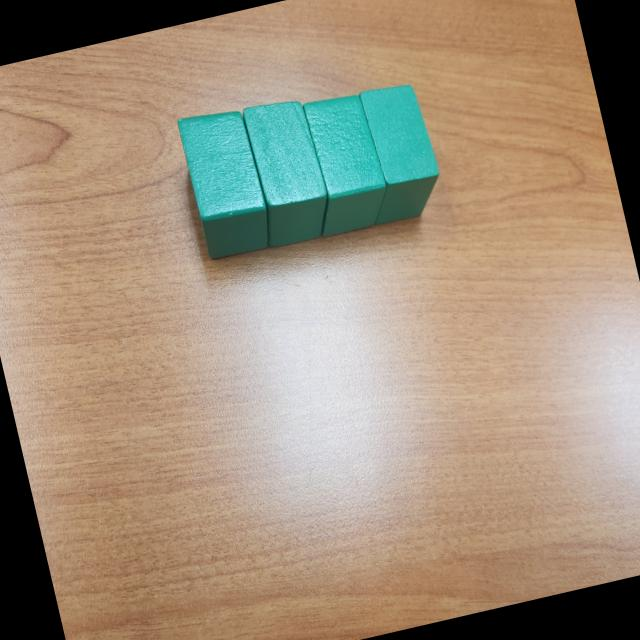green: (172, 102, 276, 263), (236, 93, 338, 250), (343, 76, 447, 228), (290, 88, 395, 238)
